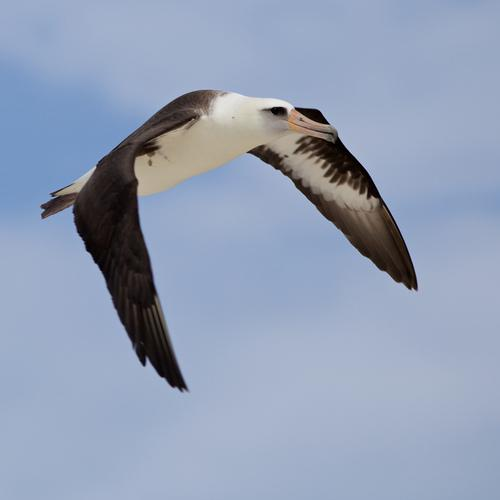002.Laysan_Albatross: (42, 88, 425, 391)
